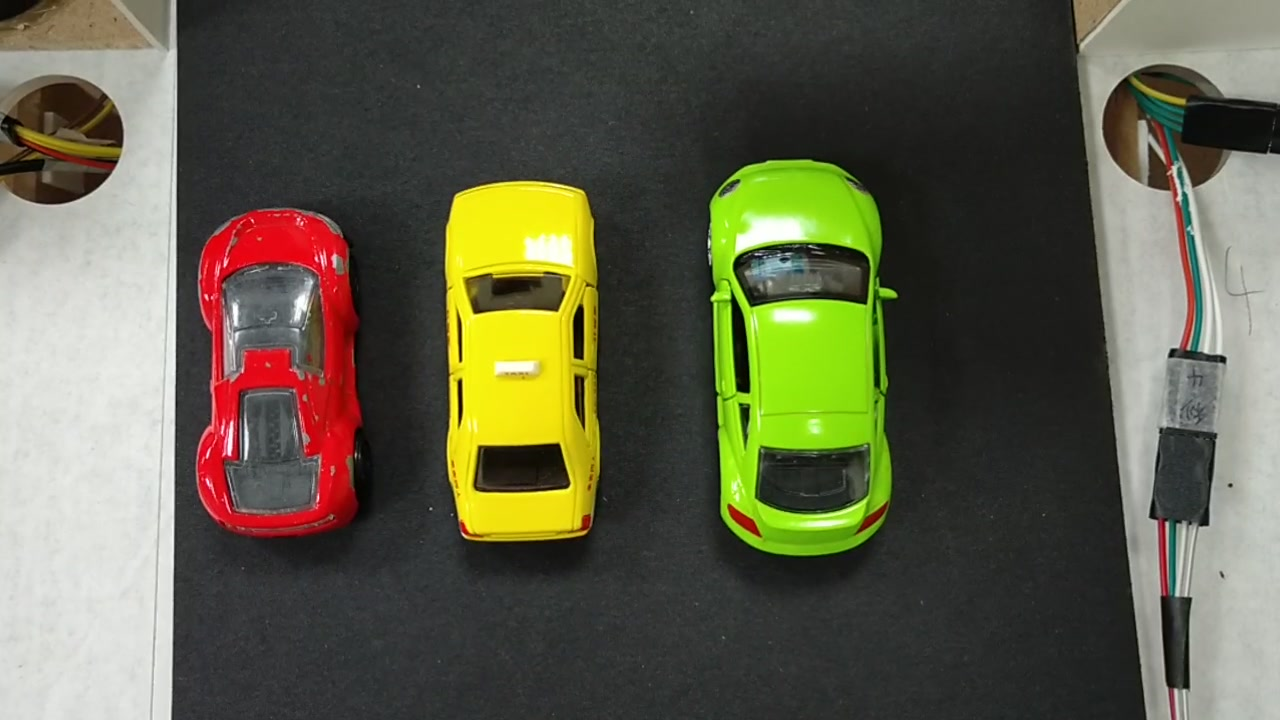car: (717, 163, 891, 558), (190, 222, 360, 535), (453, 179, 599, 537)
